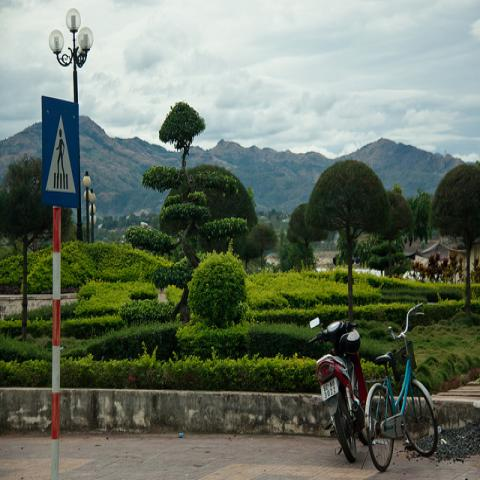motorcycle: (309, 312, 370, 465)
